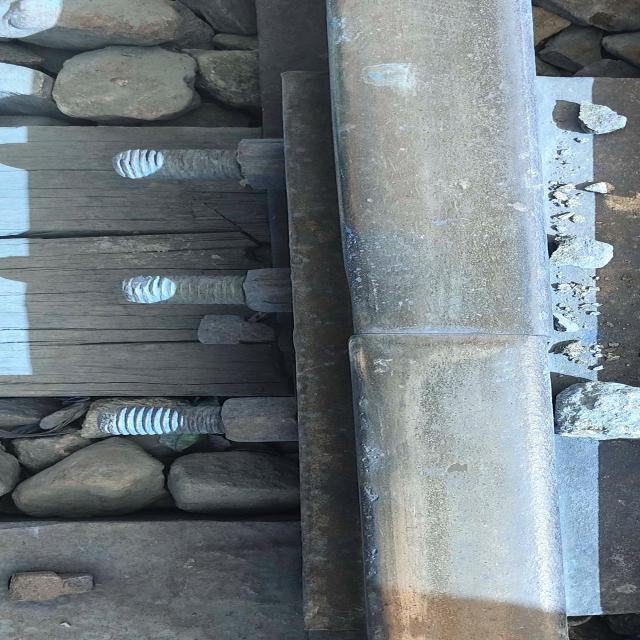Defective Joint: (102, 62, 640, 446)
